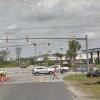Car: (28, 61, 60, 81)
